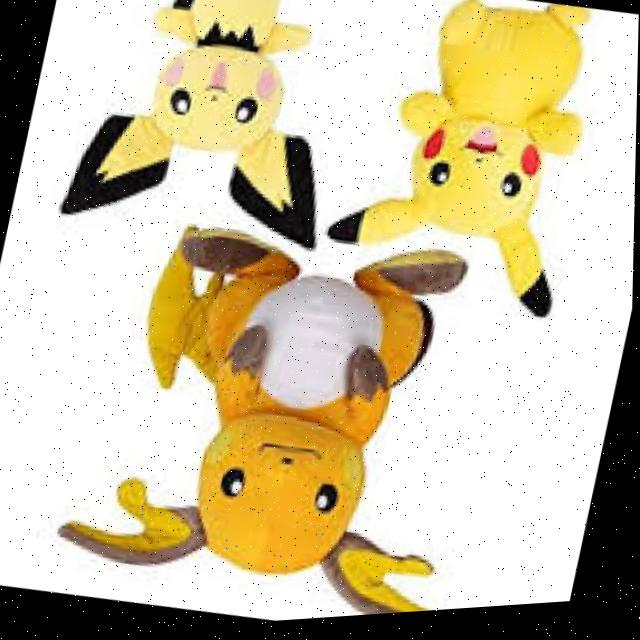pichu: (53, 0, 402, 276)
